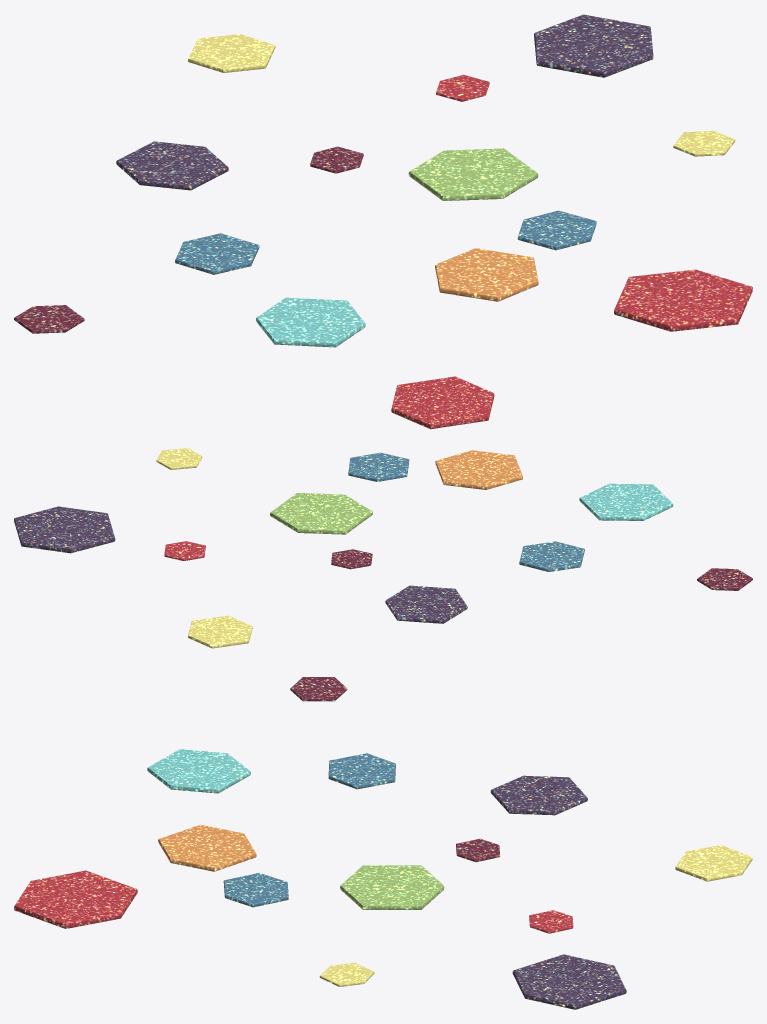
File: Glitter paint.fbx
The picture shows the model from 3 angles, top to bottom: view 1: azimuth 30°, elevation 25°; view 2: azimuth 150°, elevation 25°; view 3: azimuth 270°, elevation 25°; orthographic projection. The views are drawn at different scales.
Visible parts, largest first — view 1: Glitter_paint; view 2: Glitter_paint; view 3: Glitter_paint.
Part boxes in pixels (x1,y1,x2,y2): Glitter_paint: (14,14,752,347); Glitter_paint: (14,376,752,648); Glitter_paint: (14,677,752,1009).
Bounding box in the file's own units: 2.47 × 0.0211 × 2.34.
1 material, 1 textured.
